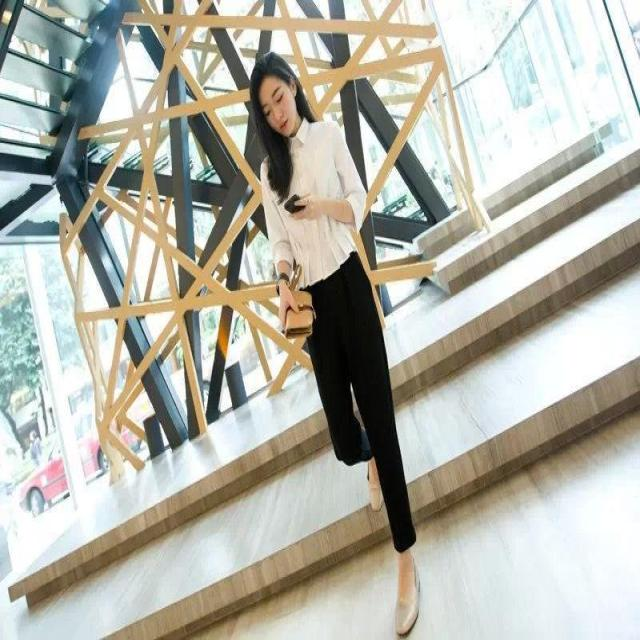long sleeve top: (262, 120, 366, 289)
trousers: (297, 238, 417, 549)
